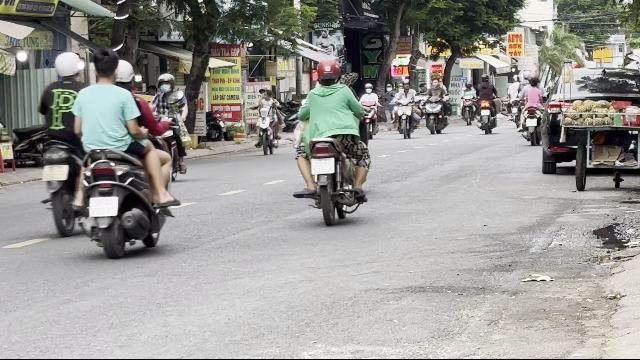helmet: (52, 50, 84, 81), (315, 58, 341, 86), (113, 58, 135, 88), (155, 73, 175, 93)
licenseplate: (89, 195, 117, 216), (42, 165, 68, 180), (312, 158, 334, 174)
motorcyclist: (74, 50, 180, 258), (289, 57, 373, 225), (34, 49, 88, 235)
nohelmet: (90, 49, 120, 83)
